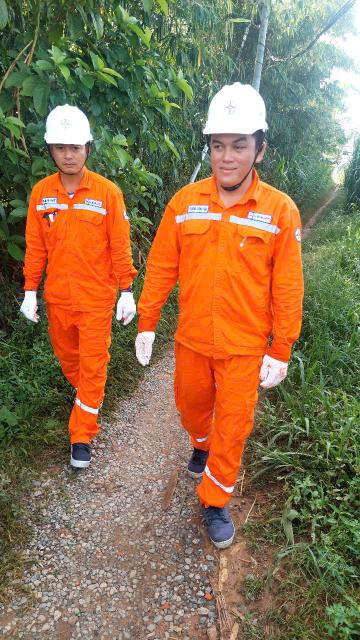gloves: (248, 344, 292, 391), (128, 326, 159, 362), (16, 289, 40, 329), (112, 290, 137, 327)
helmet: (198, 83, 275, 135), (39, 108, 97, 147)
shoes: (188, 498, 238, 547), (178, 441, 209, 477), (60, 439, 93, 471)
